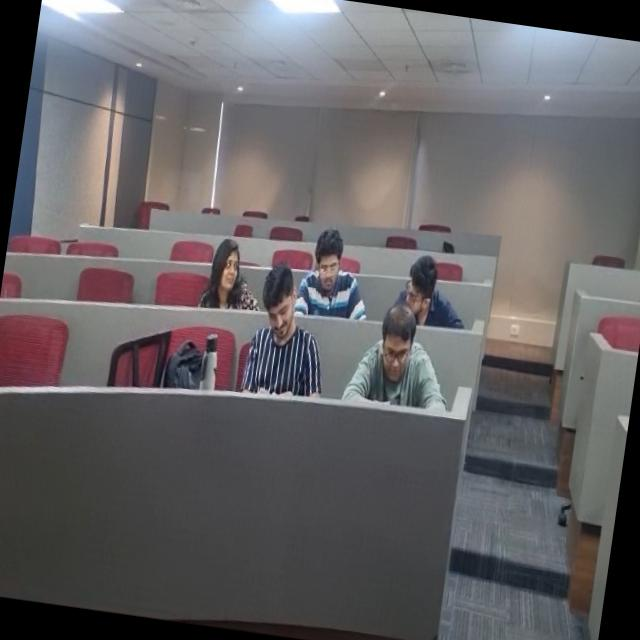cheating: (194, 238, 280, 316)
